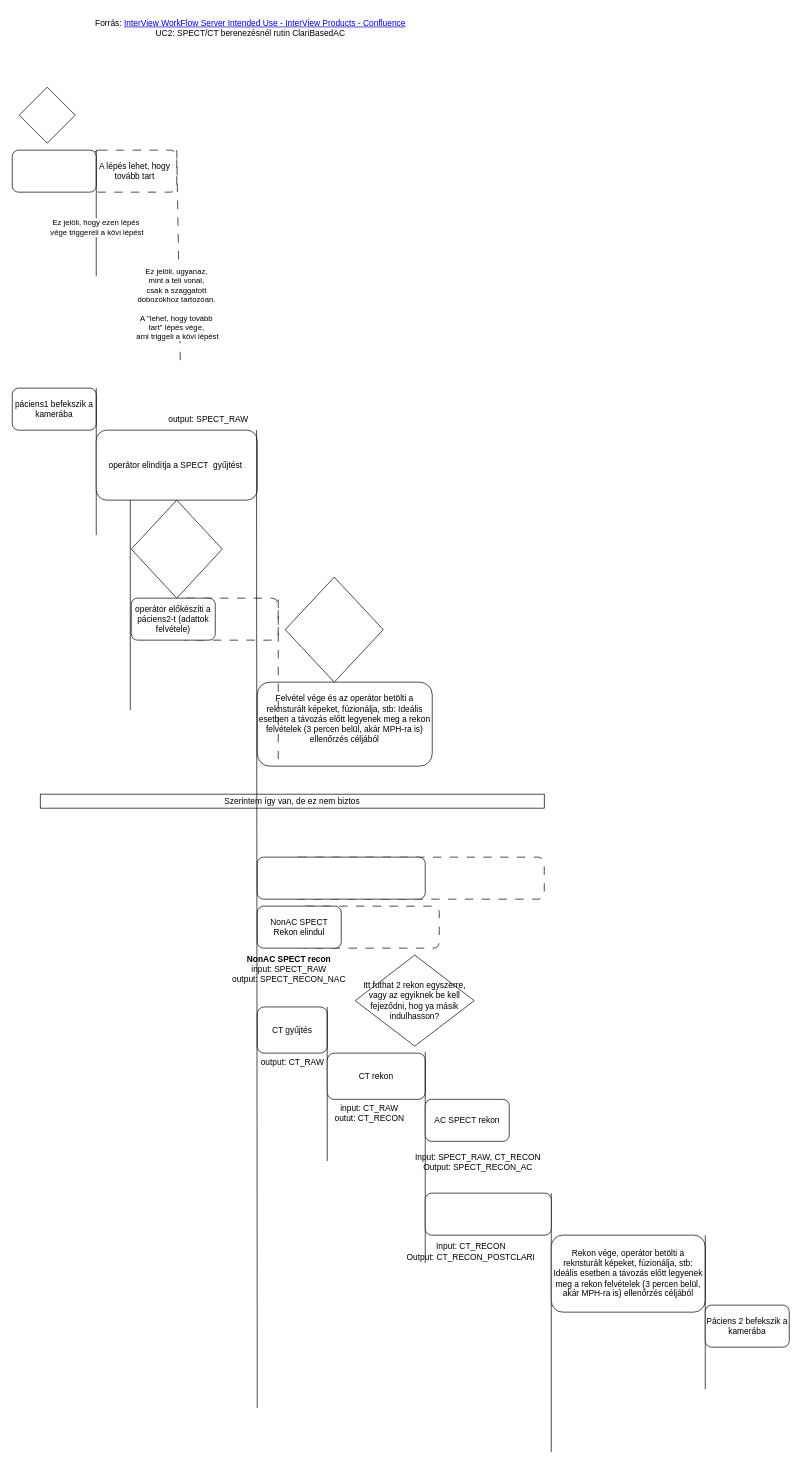
This 802x1465 diagram has some shape labels left out. Each missing label, with the centre of its shape:
1, A "Felvétel vége" a második lépésben említett gyűjtés + rekon?: [334,629]
Clari postfilter: [488,1213]
Ez itt igaz, hogy nem kell a lépés végéig várni, hogy induljon a kövi?: [176,548]
Kérdés: [47,114]
Lépés: [54,170]
Páciens1 távozik: [341,877]
